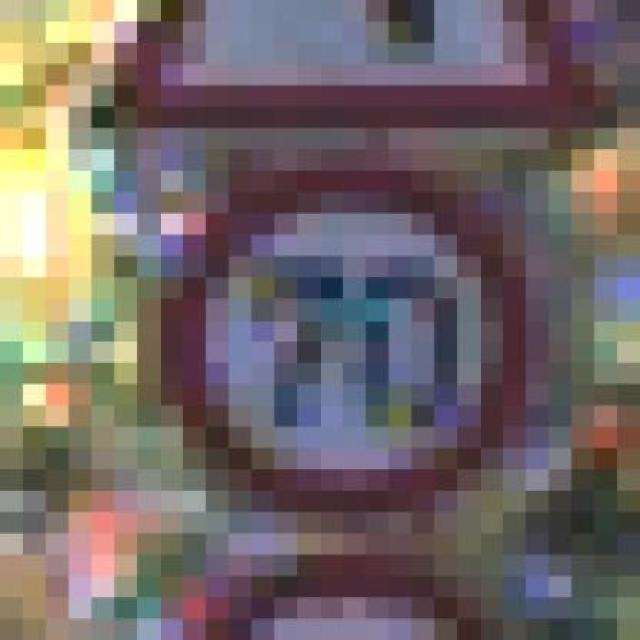forb_speed_over_70: (156, 160, 535, 515)
